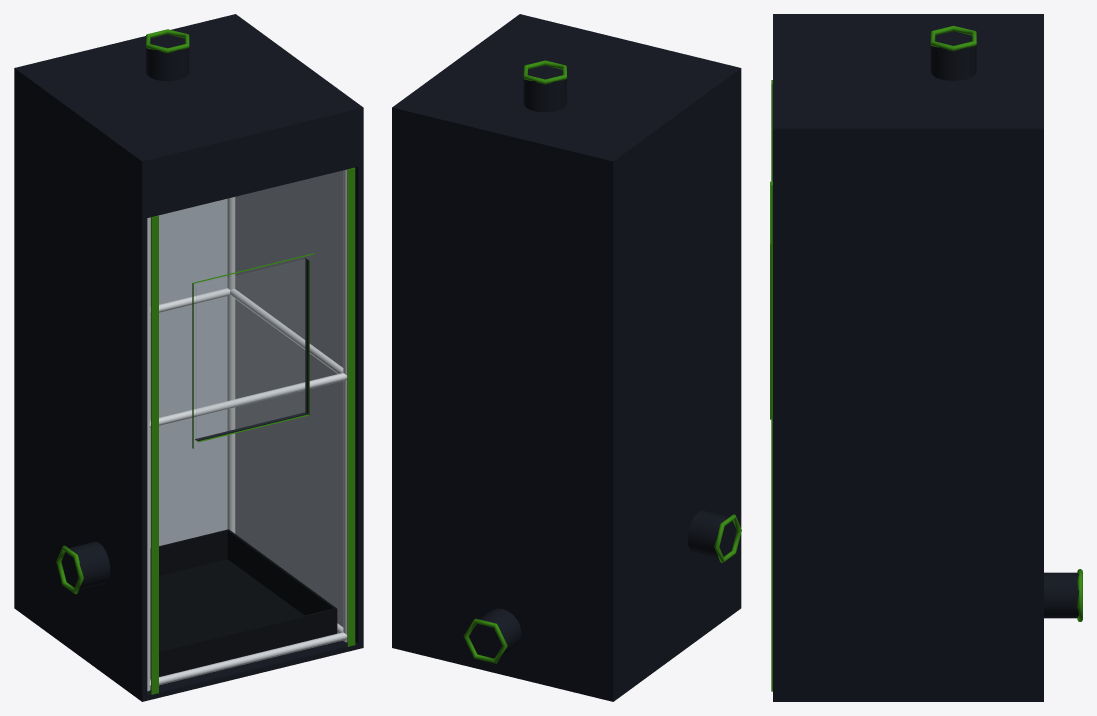
The model's file is grow-tent--60x60x140.glb.
3 renders of one model, left to right at view 1: azimuth 30°, elevation 25°; view 2: azimuth 150°, elevation 25°; view 3: azimuth 270°, elevation 25°, orthographic. The views are drawn at different scales.
Visible parts, largest first — view 1: panel_side_left, lining_right, panel_top, lining_back, panel_upper_front, floor_tray, tray_lip_front, panel_side_right, zip_door_2, zip_door_1, panel_bottom, tray_lip_right (+13 smaller); view 2: panel_back, panel_side_left, panel_top, panel_side_right, panel_bottom, vent_port_roof_1_sleeve, vent_port_side_left_1_sleeve, cable_port_1_sleeve, cable_port_1_iris, cable_port_1_ring, vent_port_side_left_1_ring; view 3: panel_side_right, panel_top, panel_bottom, cable_port_1_sleeve, vent_port_roof_1_sleeve, zip_door_2, vent_port_roof_1_ring.
Part boxes in pixels (x1,y1,x2,y2): panel_side_left: (14,73,147,696); lining_right: (235,170,343,626); panel_top: (14,14,363,166); lining_back: (150,199,227,547); panel_upper_front: (147,114,358,217); floor_tray: (150,559,304,652); tray_lip_front: (150,608,337,678); panel_side_right: (355,113,363,643); zip_door_2: (347,167,355,646); zip_door_1: (151,215,158,694); panel_bottom: (14,603,363,701); tray_lip_right: (227,530,335,615); panel_back: (397,114,608,694); panel_side_left: (608,73,741,696); panel_top: (392,14,741,166); panel_side_right: (392,113,397,643); panel_bottom: (392,603,741,701); vent_port_roof_1_sleeve: (523,79,566,112); vent_port_side_left_1_sleeve: (687,510,728,558); cable_port_1_sleeve: (479,608,521,656); cable_port_1_iris: (469,623,502,658); cable_port_1_ring: (463,618,507,663); vent_port_side_left_1_ring: (714,514,741,562); panel_side_right: (773,134,1043,696); panel_top: (773,14,1043,134); panel_bottom: (773,696,1043,701); cable_port_1_sleeve: (1044,572,1079,618); vent_port_roof_1_sleeve: (930,45,976,80); zip_door_2: (771,181,772,691); vent_port_roof_1_ring: (930,25,976,51).
Size of the model in its own units: 0.686 by 1.49 by 0.692.
